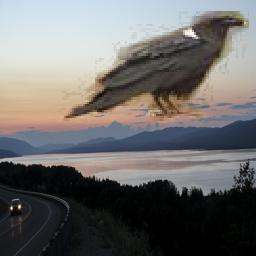Crow: (57, 12, 249, 125)
